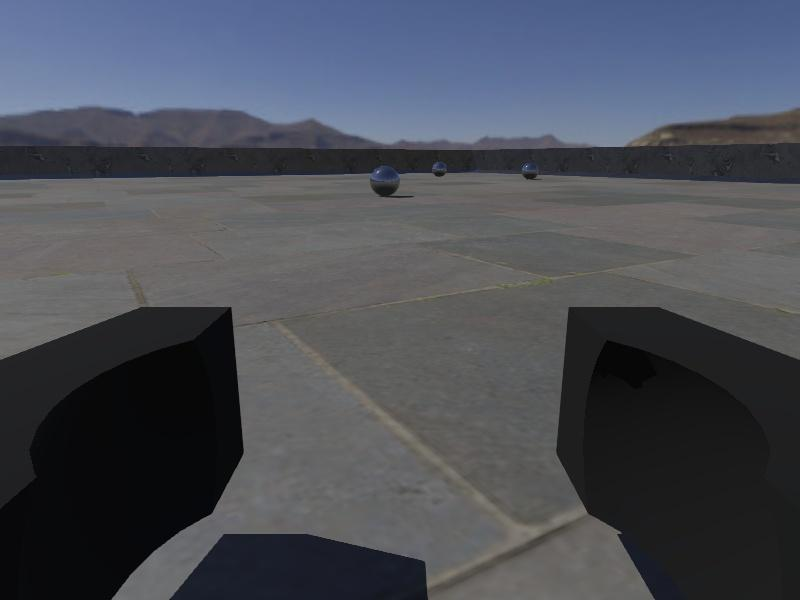steel ball: (368, 164, 401, 196), (520, 160, 538, 179), (432, 160, 448, 177)
